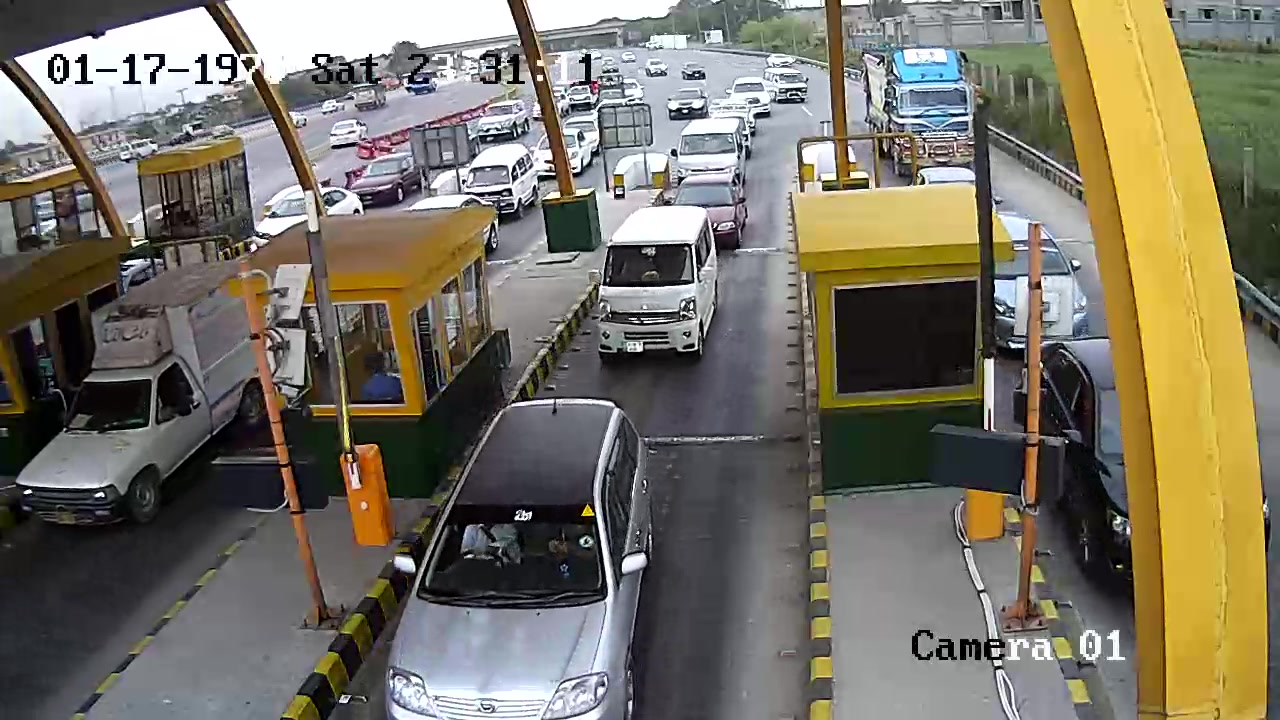F1: (586, 201, 730, 370)
